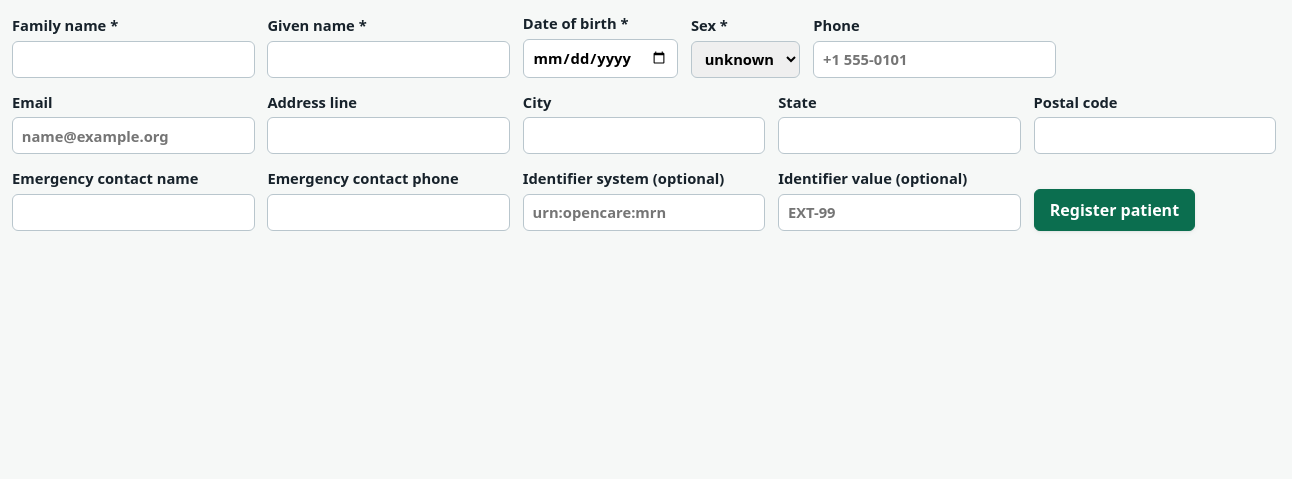
RegisterPatientForm › surfaces a server 409's candidates the same way
Step 1. Type "Lovelace" into the field labelled "Family name *" → (133, 59), box 12,41 -> 255,78
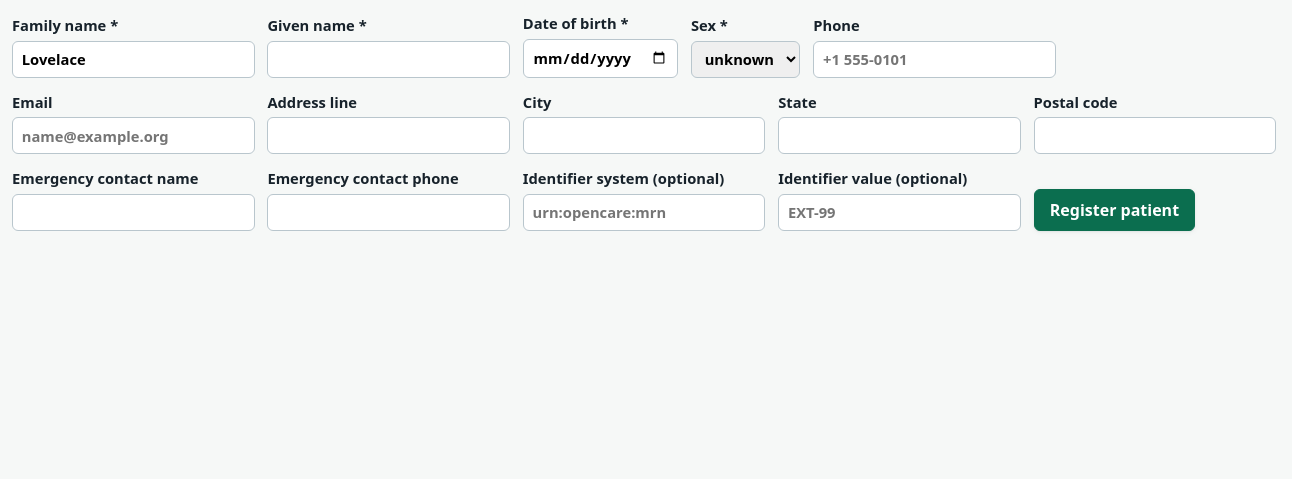
Step 2. Type "Ada" into the field labelled "Given name *" → (389, 59), box 267,41 -> 510,78
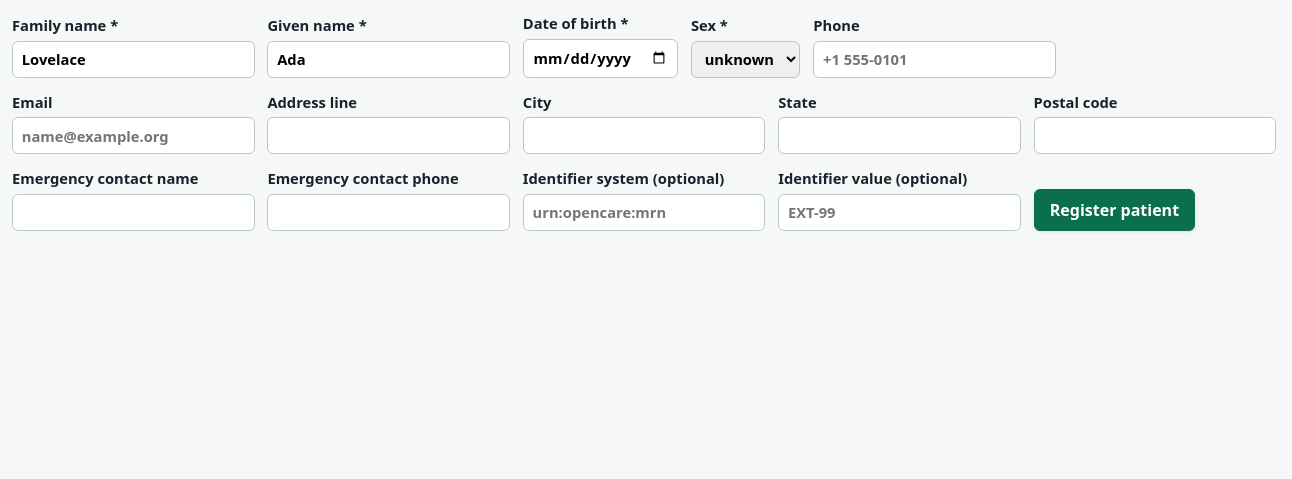
Step 3. Type "1990-05-04" into the date field labelled "Date of birth *" → (600, 58), box 523,39 -> 678,78
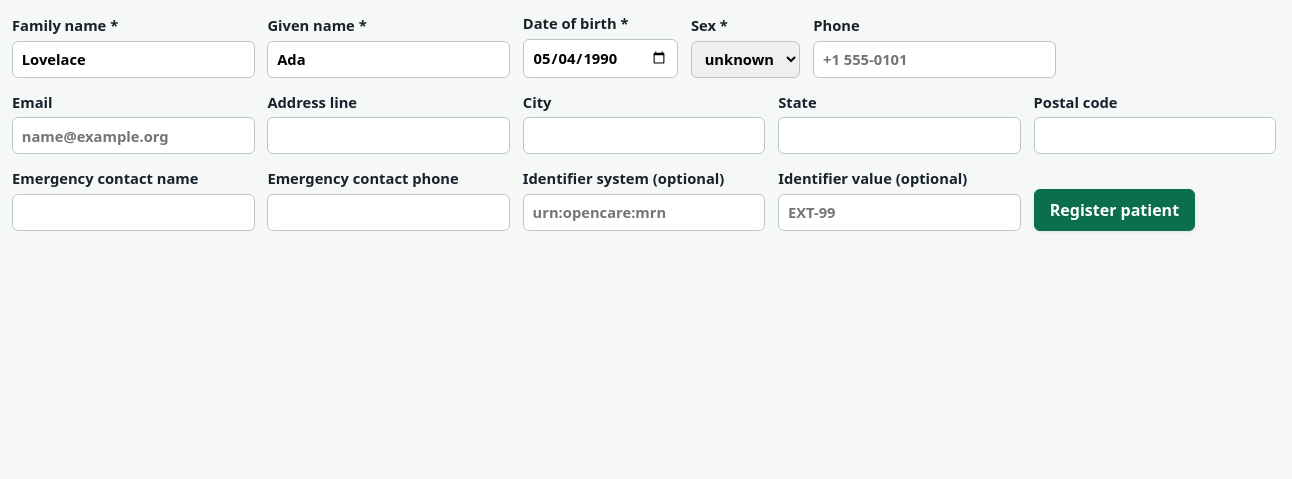
Step 4. Click the button "Register patient" → click(1114, 210), box 1034,189 -> 1195,231
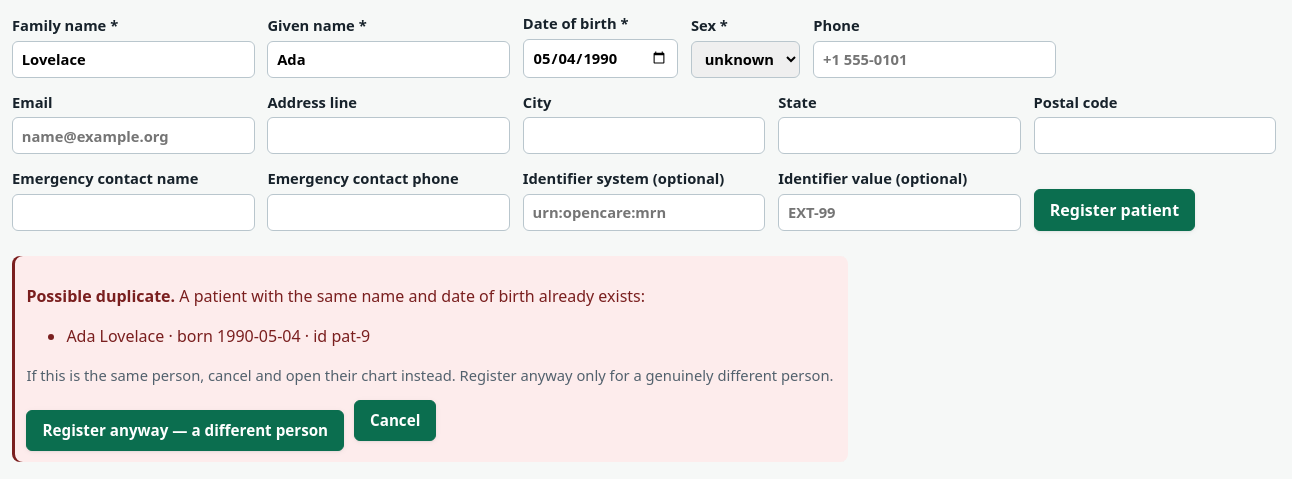
Check: the text "Possible duplicate." is shown, box 26,285 -> 175,307
Check: the list item "Ada Lovelace · born 1990-05-04 · id pat-9" is shown, box 66,325 -> 370,347
